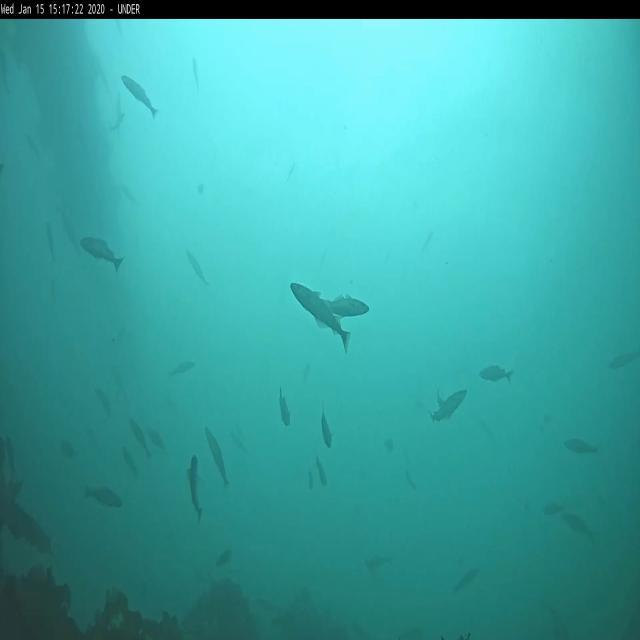fish: (292, 283, 350, 353), (123, 74, 159, 118), (80, 238, 124, 272), (204, 428, 230, 484), (430, 390, 464, 423), (188, 456, 204, 518), (131, 421, 152, 464), (325, 298, 370, 317), (84, 488, 122, 508), (563, 512, 593, 535), (188, 251, 210, 282), (452, 566, 478, 591), (607, 350, 638, 369), (564, 438, 599, 454), (321, 405, 333, 447), (478, 368, 512, 382), (122, 448, 140, 473), (366, 554, 390, 570), (279, 390, 289, 428), (170, 361, 195, 375), (96, 392, 110, 412), (46, 224, 55, 255), (148, 431, 164, 448), (192, 58, 200, 90), (542, 502, 566, 512), (317, 460, 327, 483)
